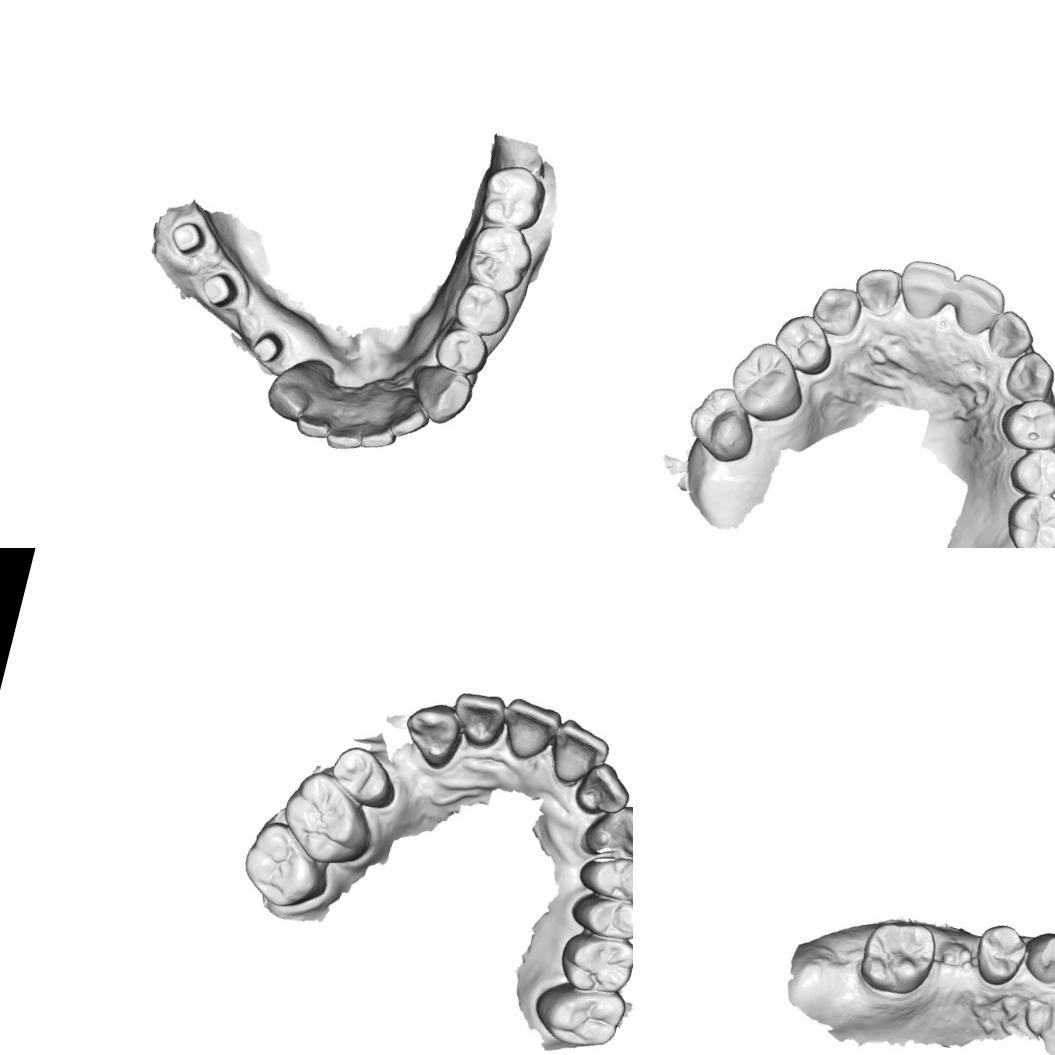abutment: (193, 262, 244, 314), (162, 212, 212, 262), (244, 324, 288, 371)
canine: (260, 346, 336, 431), (398, 357, 478, 431), (396, 696, 469, 774), (805, 278, 866, 341), (580, 795, 633, 865), (1000, 344, 1055, 407), (1019, 923, 1055, 990)
incisor: (544, 715, 614, 793), (494, 694, 564, 767), (892, 252, 960, 326), (944, 270, 1012, 342), (444, 685, 510, 753), (571, 757, 633, 822), (289, 376, 345, 444), (356, 382, 406, 456), (848, 258, 906, 320), (382, 382, 436, 446), (983, 304, 1040, 364), (322, 391, 371, 455)
molar: (272, 764, 384, 872), (234, 814, 339, 916), (723, 334, 815, 430), (527, 971, 629, 1055), (852, 910, 942, 1002), (680, 378, 766, 469), (461, 215, 541, 298), (474, 156, 552, 236), (553, 925, 633, 1001), (997, 487, 1055, 548)
premolar: (324, 741, 404, 812), (966, 915, 1034, 993), (768, 307, 840, 380), (448, 276, 516, 342), (995, 388, 1055, 457), (429, 321, 494, 380), (567, 887, 633, 945), (574, 845, 633, 906), (1004, 438, 1055, 502)
